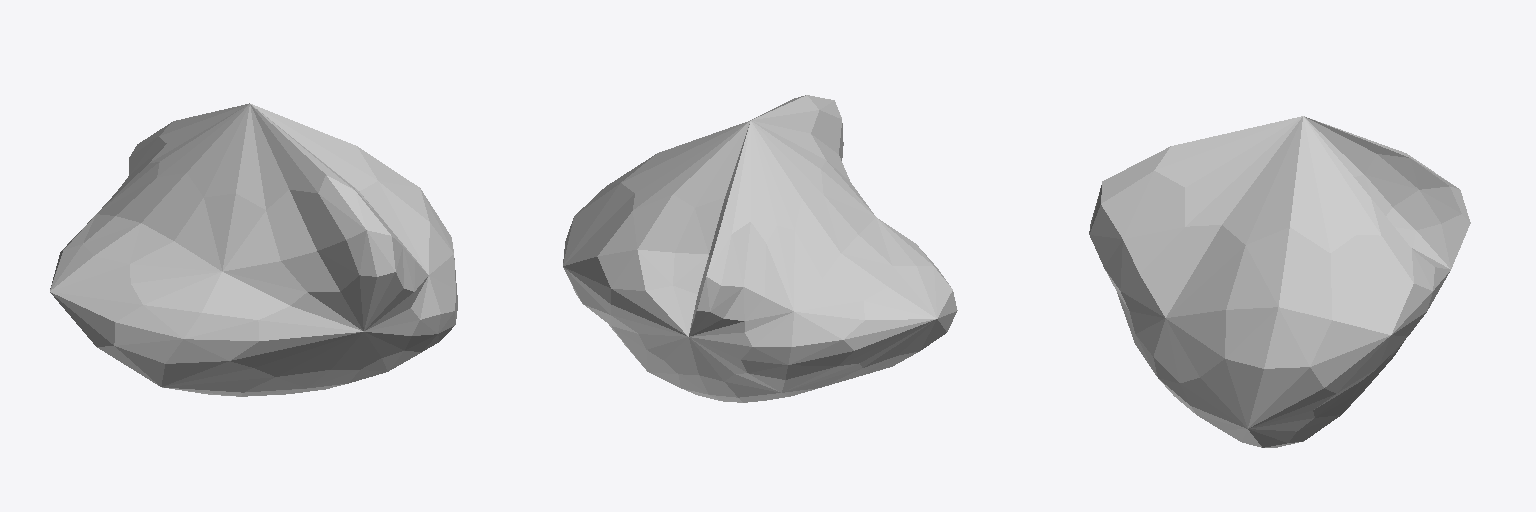
The model's file is mountain-rock.obj.
3 renders of one model, left to right at view 1: azimuth 30°, elevation 25°; view 2: azimuth 150°, elevation 25°; view 3: azimuth 270°, elevation 25°, orthographic.
Visible parts, largest first — view 1: Box; view 2: Box; view 3: Box.
Part boxes in pixels (left/top/right/bottom): Box: left=50, top=103, right=457, bottom=396; Box: left=563, top=95, right=957, bottom=402; Box: left=1089, top=116, right=1470, bottom=447.
Bounding box in the file's own units: 2.99 × 2.17 × 2.63.